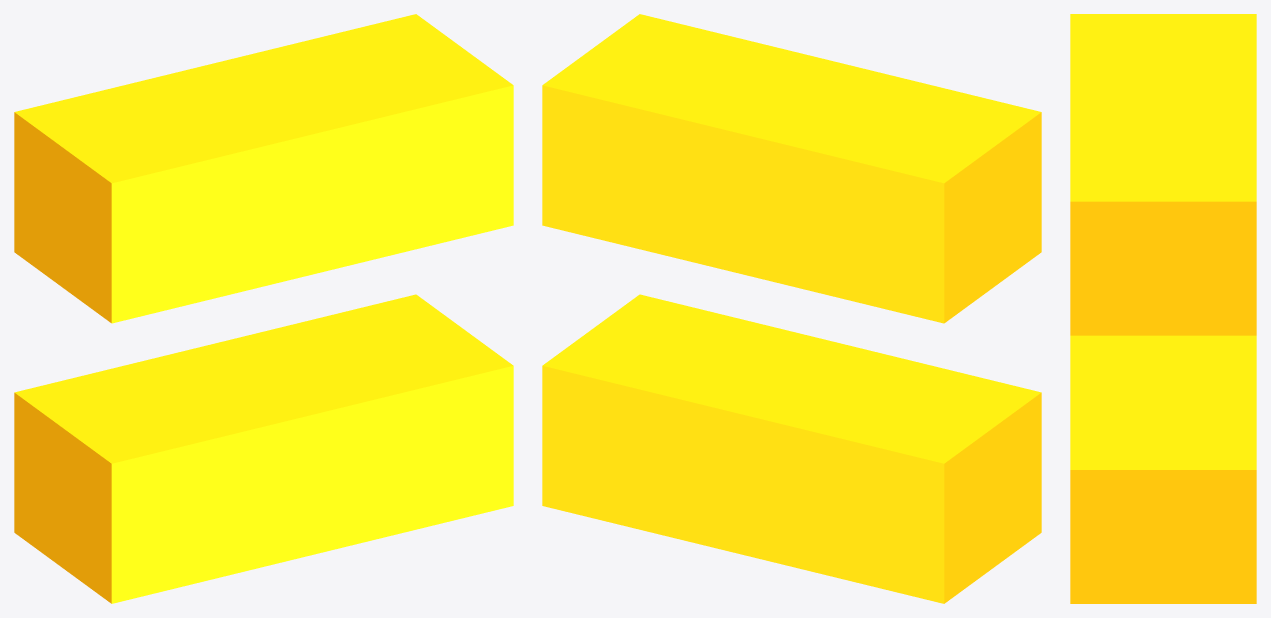
3 renders of one model, left to right at view 1: azimuth 30°, elevation 25°; view 2: azimuth 150°, elevation 25°; view 3: azimuth 270°, elevation 25°, orthographic. The views are drawn at different scales.
Visible parts, largest first — view 1: =_DeltaBlock_Yellow; view 2: =_DeltaBlock_Yellow; view 3: =_DeltaBlock_Yellow.
Part boxes in pixels (bbox=[...]): =_DeltaBlock_Yellow: bbox=[14, 14, 513, 603]; =_DeltaBlock_Yellow: bbox=[542, 14, 1041, 603]; =_DeltaBlock_Yellow: bbox=[1070, 14, 1256, 603].
Size of what is drawn, in the model's own units: 0.1071 by 0.1071 by 0.045.
Materials: 2 (2 with a texture image).
